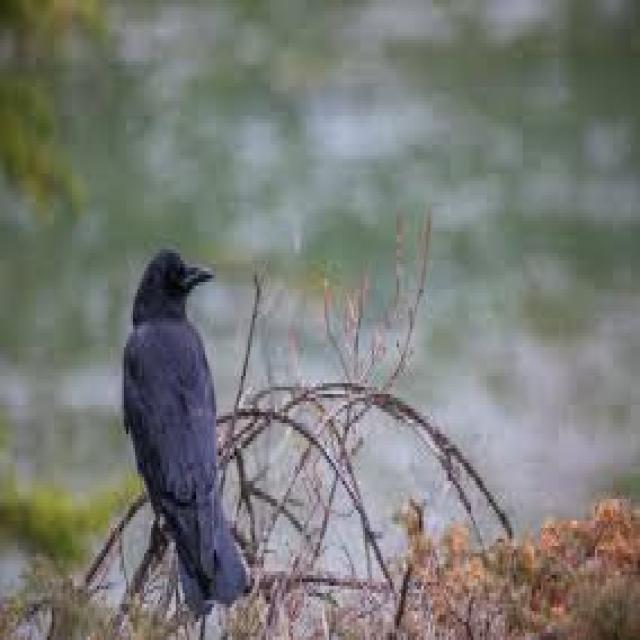crow: (128, 265, 210, 495)
